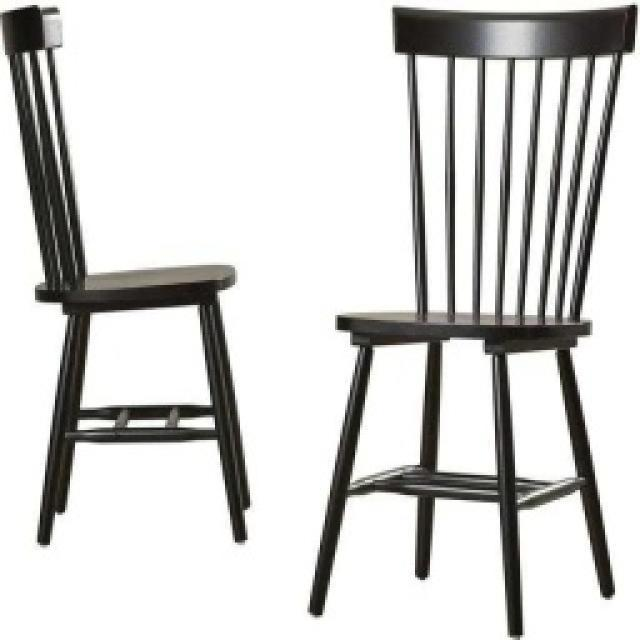sandalye: (308, 2, 638, 638), (0, 2, 250, 546)
